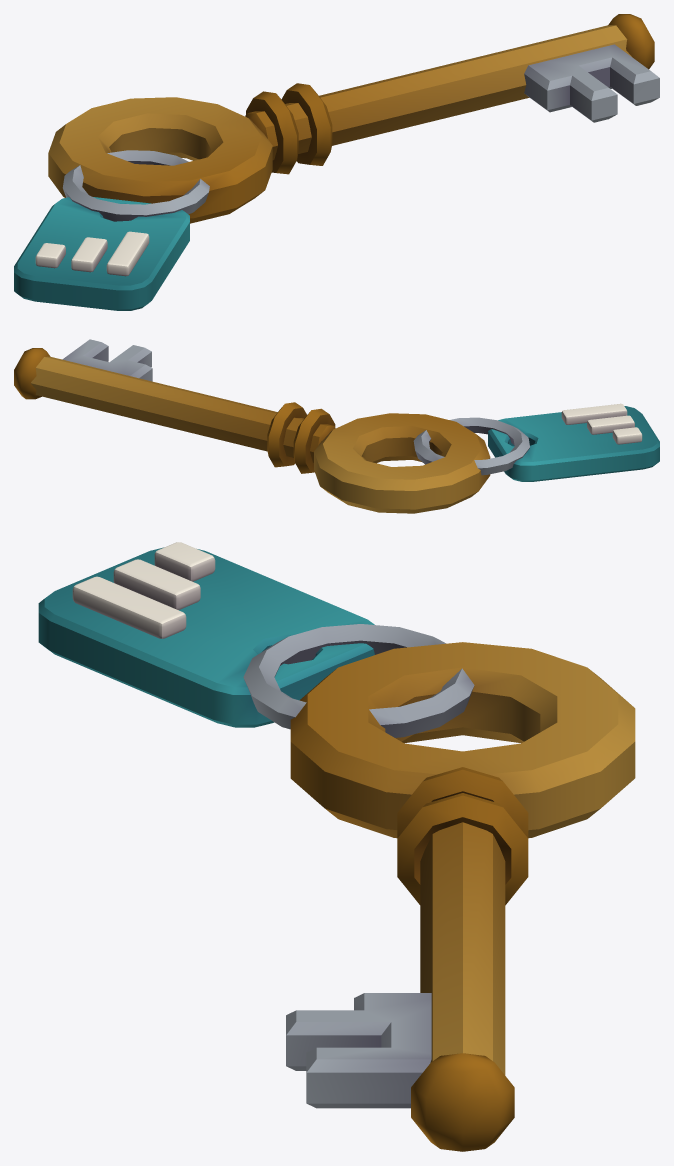
Rendered from radio_key.glb.
3 renders of one model, top to bottom at view 1: azimuth 30°, elevation 25°; view 2: azimuth 150°, elevation 25°; view 3: azimuth 270°, elevation 25°, orthographic. The views are drawn at different scales.
Parts seen in each view (by area): view 1: radio_key; view 2: radio_key; view 3: radio_key.
Part boxes in pixels (bbox=[...]): radio_key: bbox=[14, 14, 659, 310]; radio_key: bbox=[14, 339, 659, 513]; radio_key: bbox=[38, 542, 635, 1151].
Size of the model in its own units: 0.3854 by 0.0405 by 0.1754.
